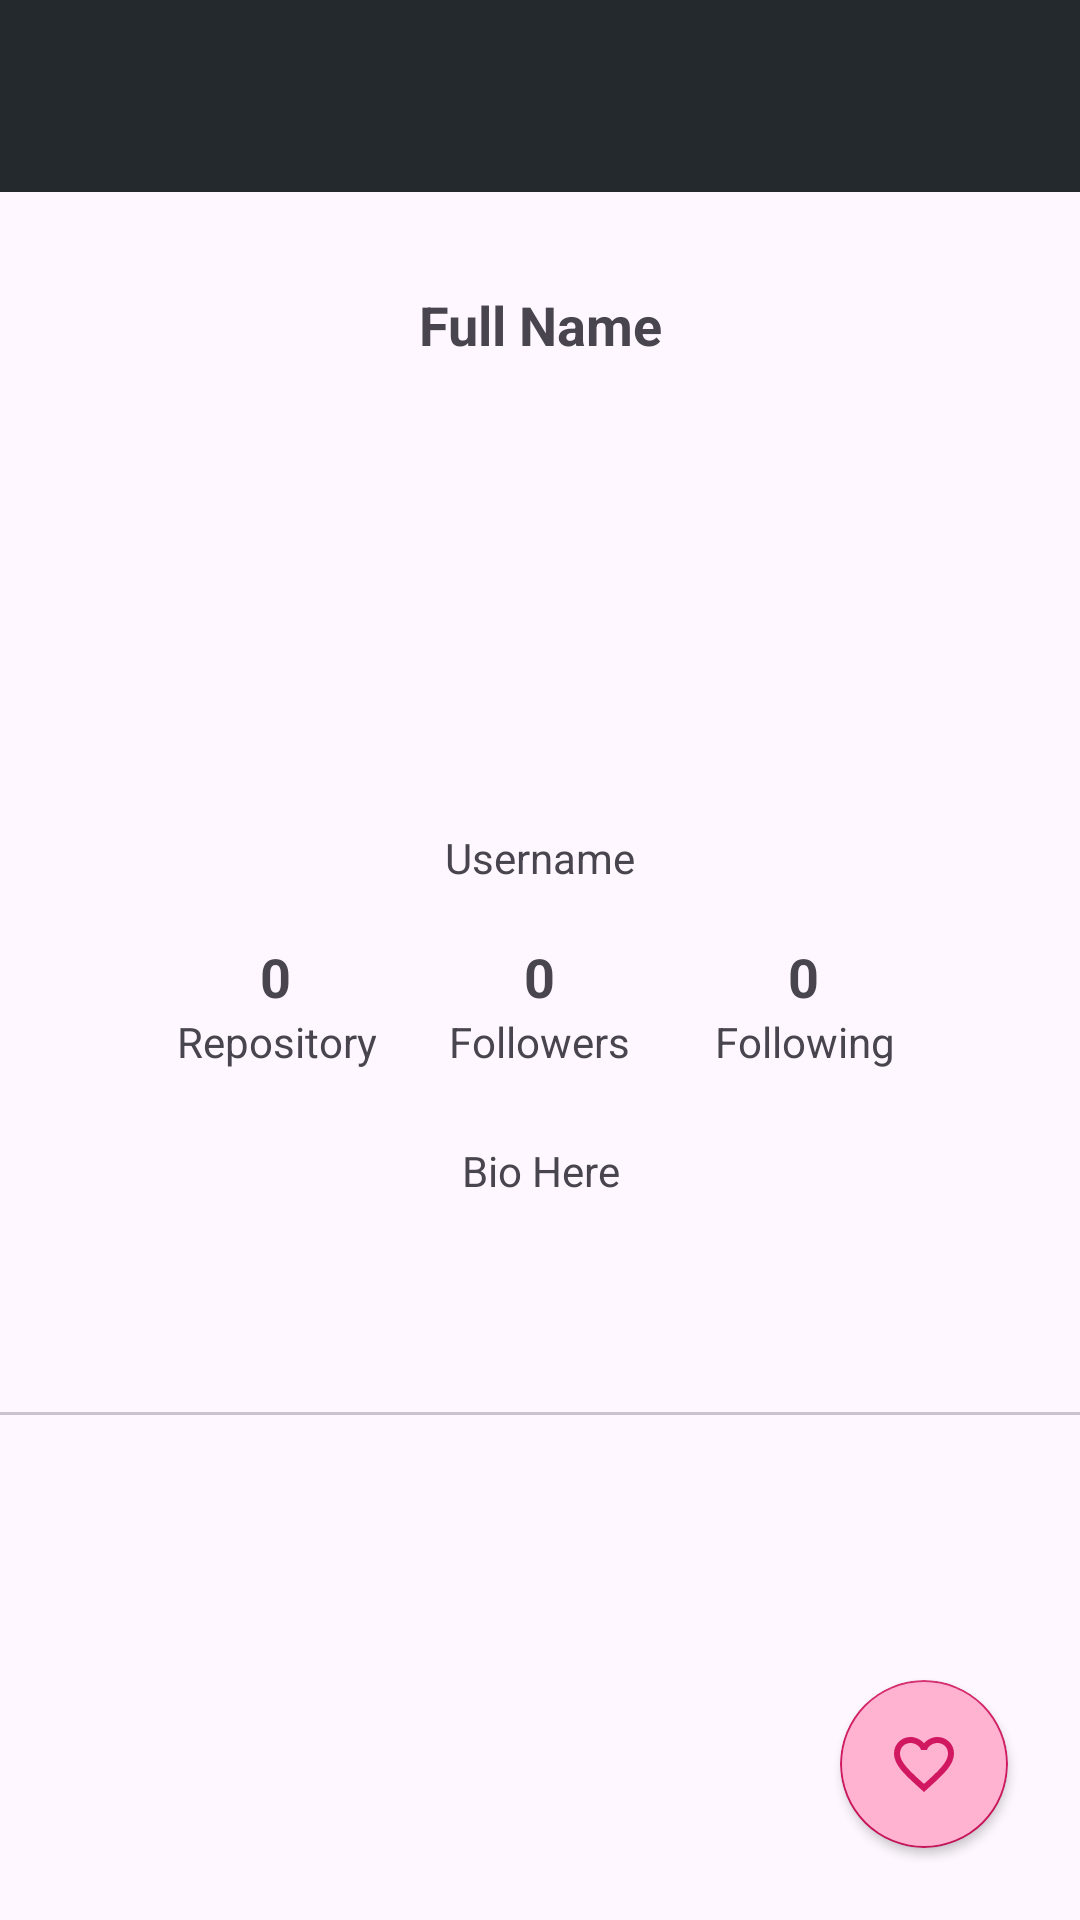

Named icons in this screenshot (1080px x 1920px) and their centers, (x=x, y=y):
Favorite Button: (x=924, y=1764)
